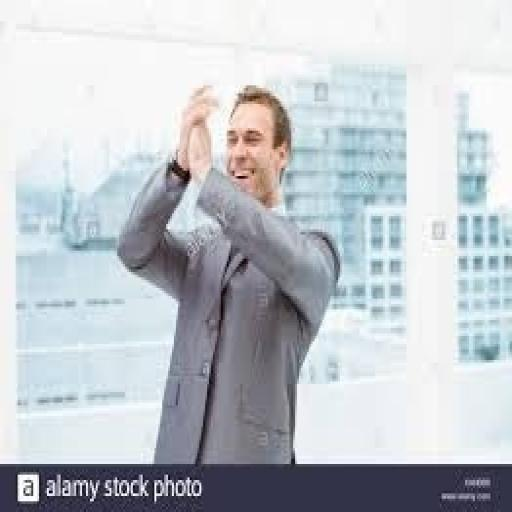clapping: (115, 80, 342, 464)
